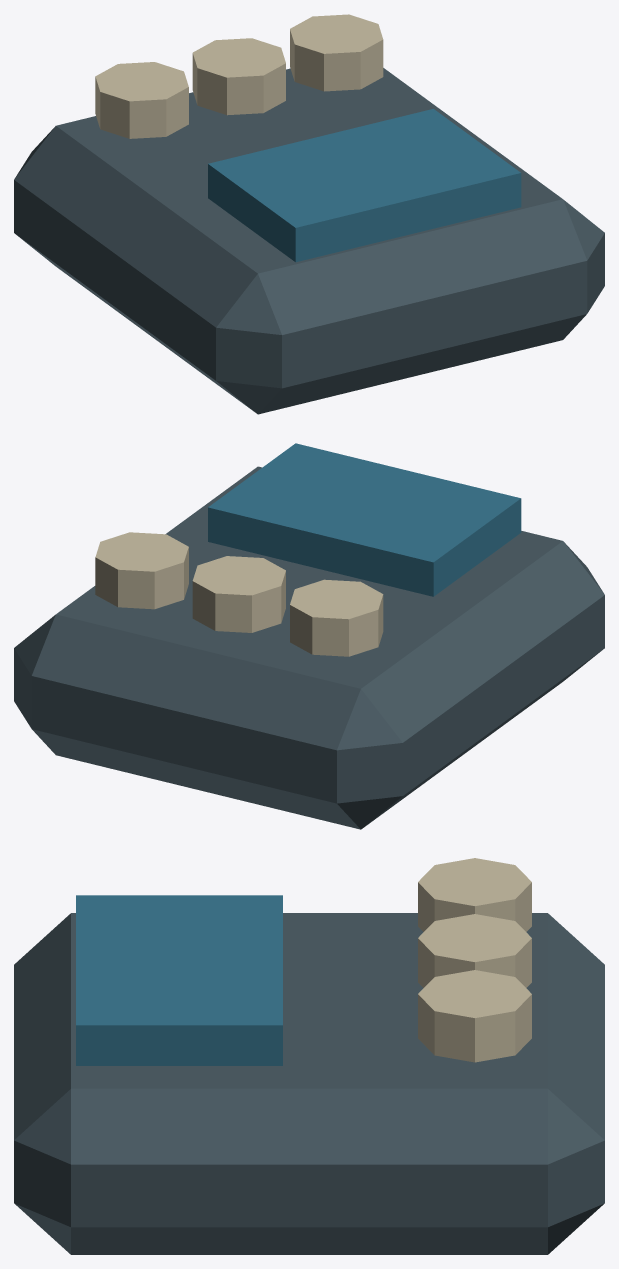
Rendered from set_power_adapter.glb.
The picture shows the model from 3 angles, top to bottom: view 1: azimuth 30°, elevation 25°; view 2: azimuth 150°, elevation 25°; view 3: azimuth 270°, elevation 25°; orthographic projection. The views are drawn at different scales.
Parts seen in each view (by area): view 1: set_power_adapter; view 2: set_power_adapter; view 3: set_power_adapter.
Boxes of the visible parts, x1,y1,x2,y2 form: set_power_adapter: (14,14,604,414); set_power_adapter: (14,443,604,829); set_power_adapter: (14,858,604,1254).
Size of the model in its own units: 0.13 by 0.062 by 0.145.
